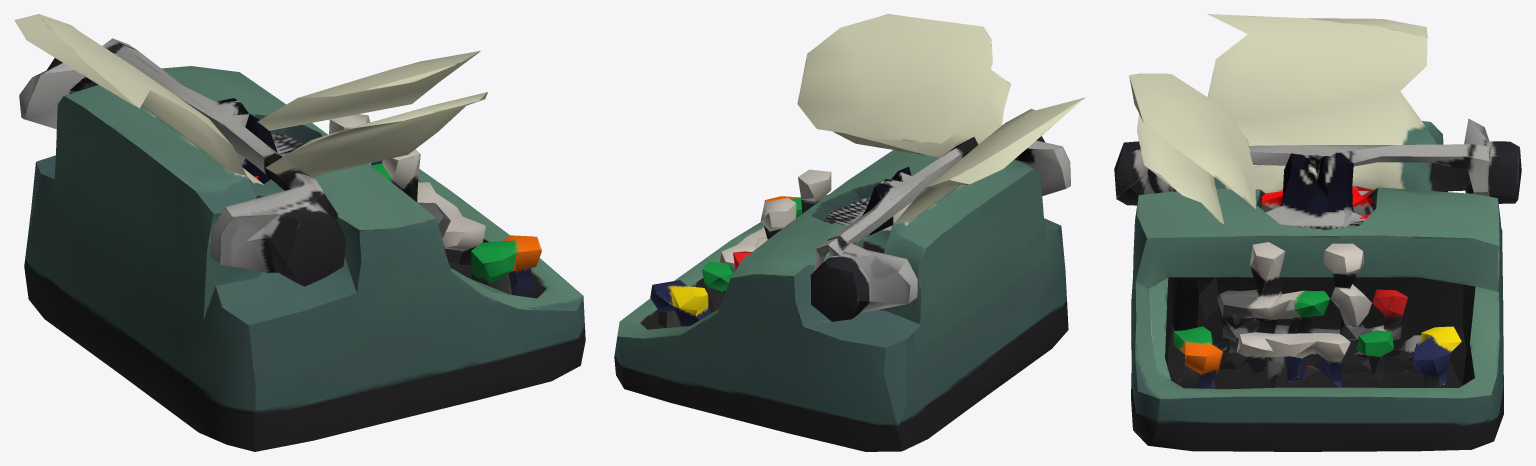
The model's file is teletype-machine.glb.
The picture shows the model from 3 angles, left to right: view 1: azimuth 30°, elevation 25°; view 2: azimuth 150°, elevation 25°; view 3: azimuth 270°, elevation 25°; orthographic projection. The views are drawn at different scales.
Visible parts, largest first — view 1: geometry_0; view 2: geometry_0; view 3: geometry_0.
Boxes of the visible parts, x1,y1,x2,y2 form: geometry_0: (14, 14, 585, 451); geometry_0: (614, 14, 1084, 451); geometry_0: (1114, 14, 1521, 451).
Size of the model in its own units: 0.9954 by 0.7578 by 1.
Materials: 1 (1 with a texture image).
